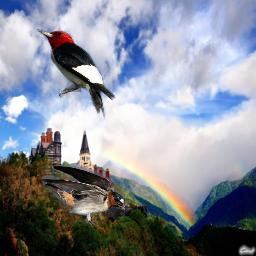Swallow: (42, 165, 125, 227)
Woodpecker: (35, 29, 117, 119)
